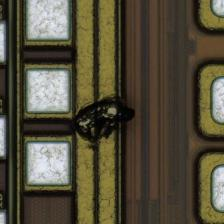PO CONTAMINATION: (69, 93, 140, 145)
